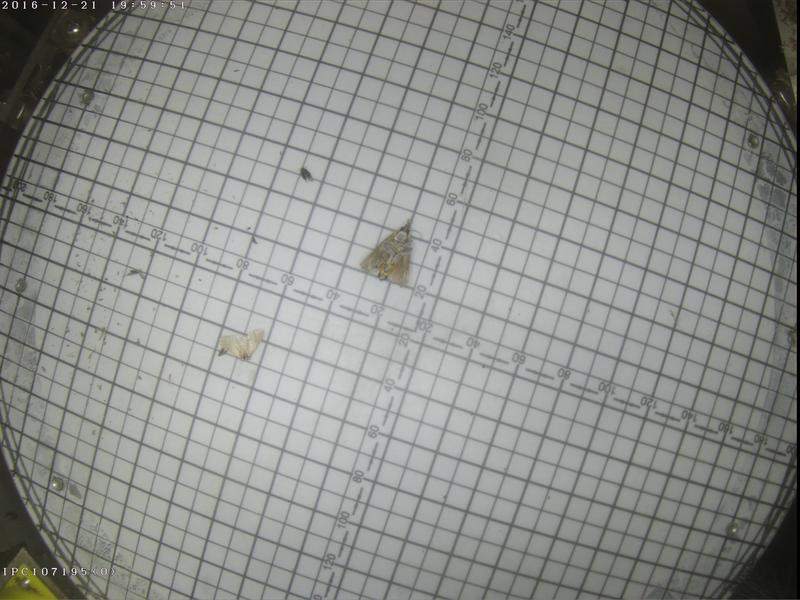Stem borer: (217, 322, 265, 362)
